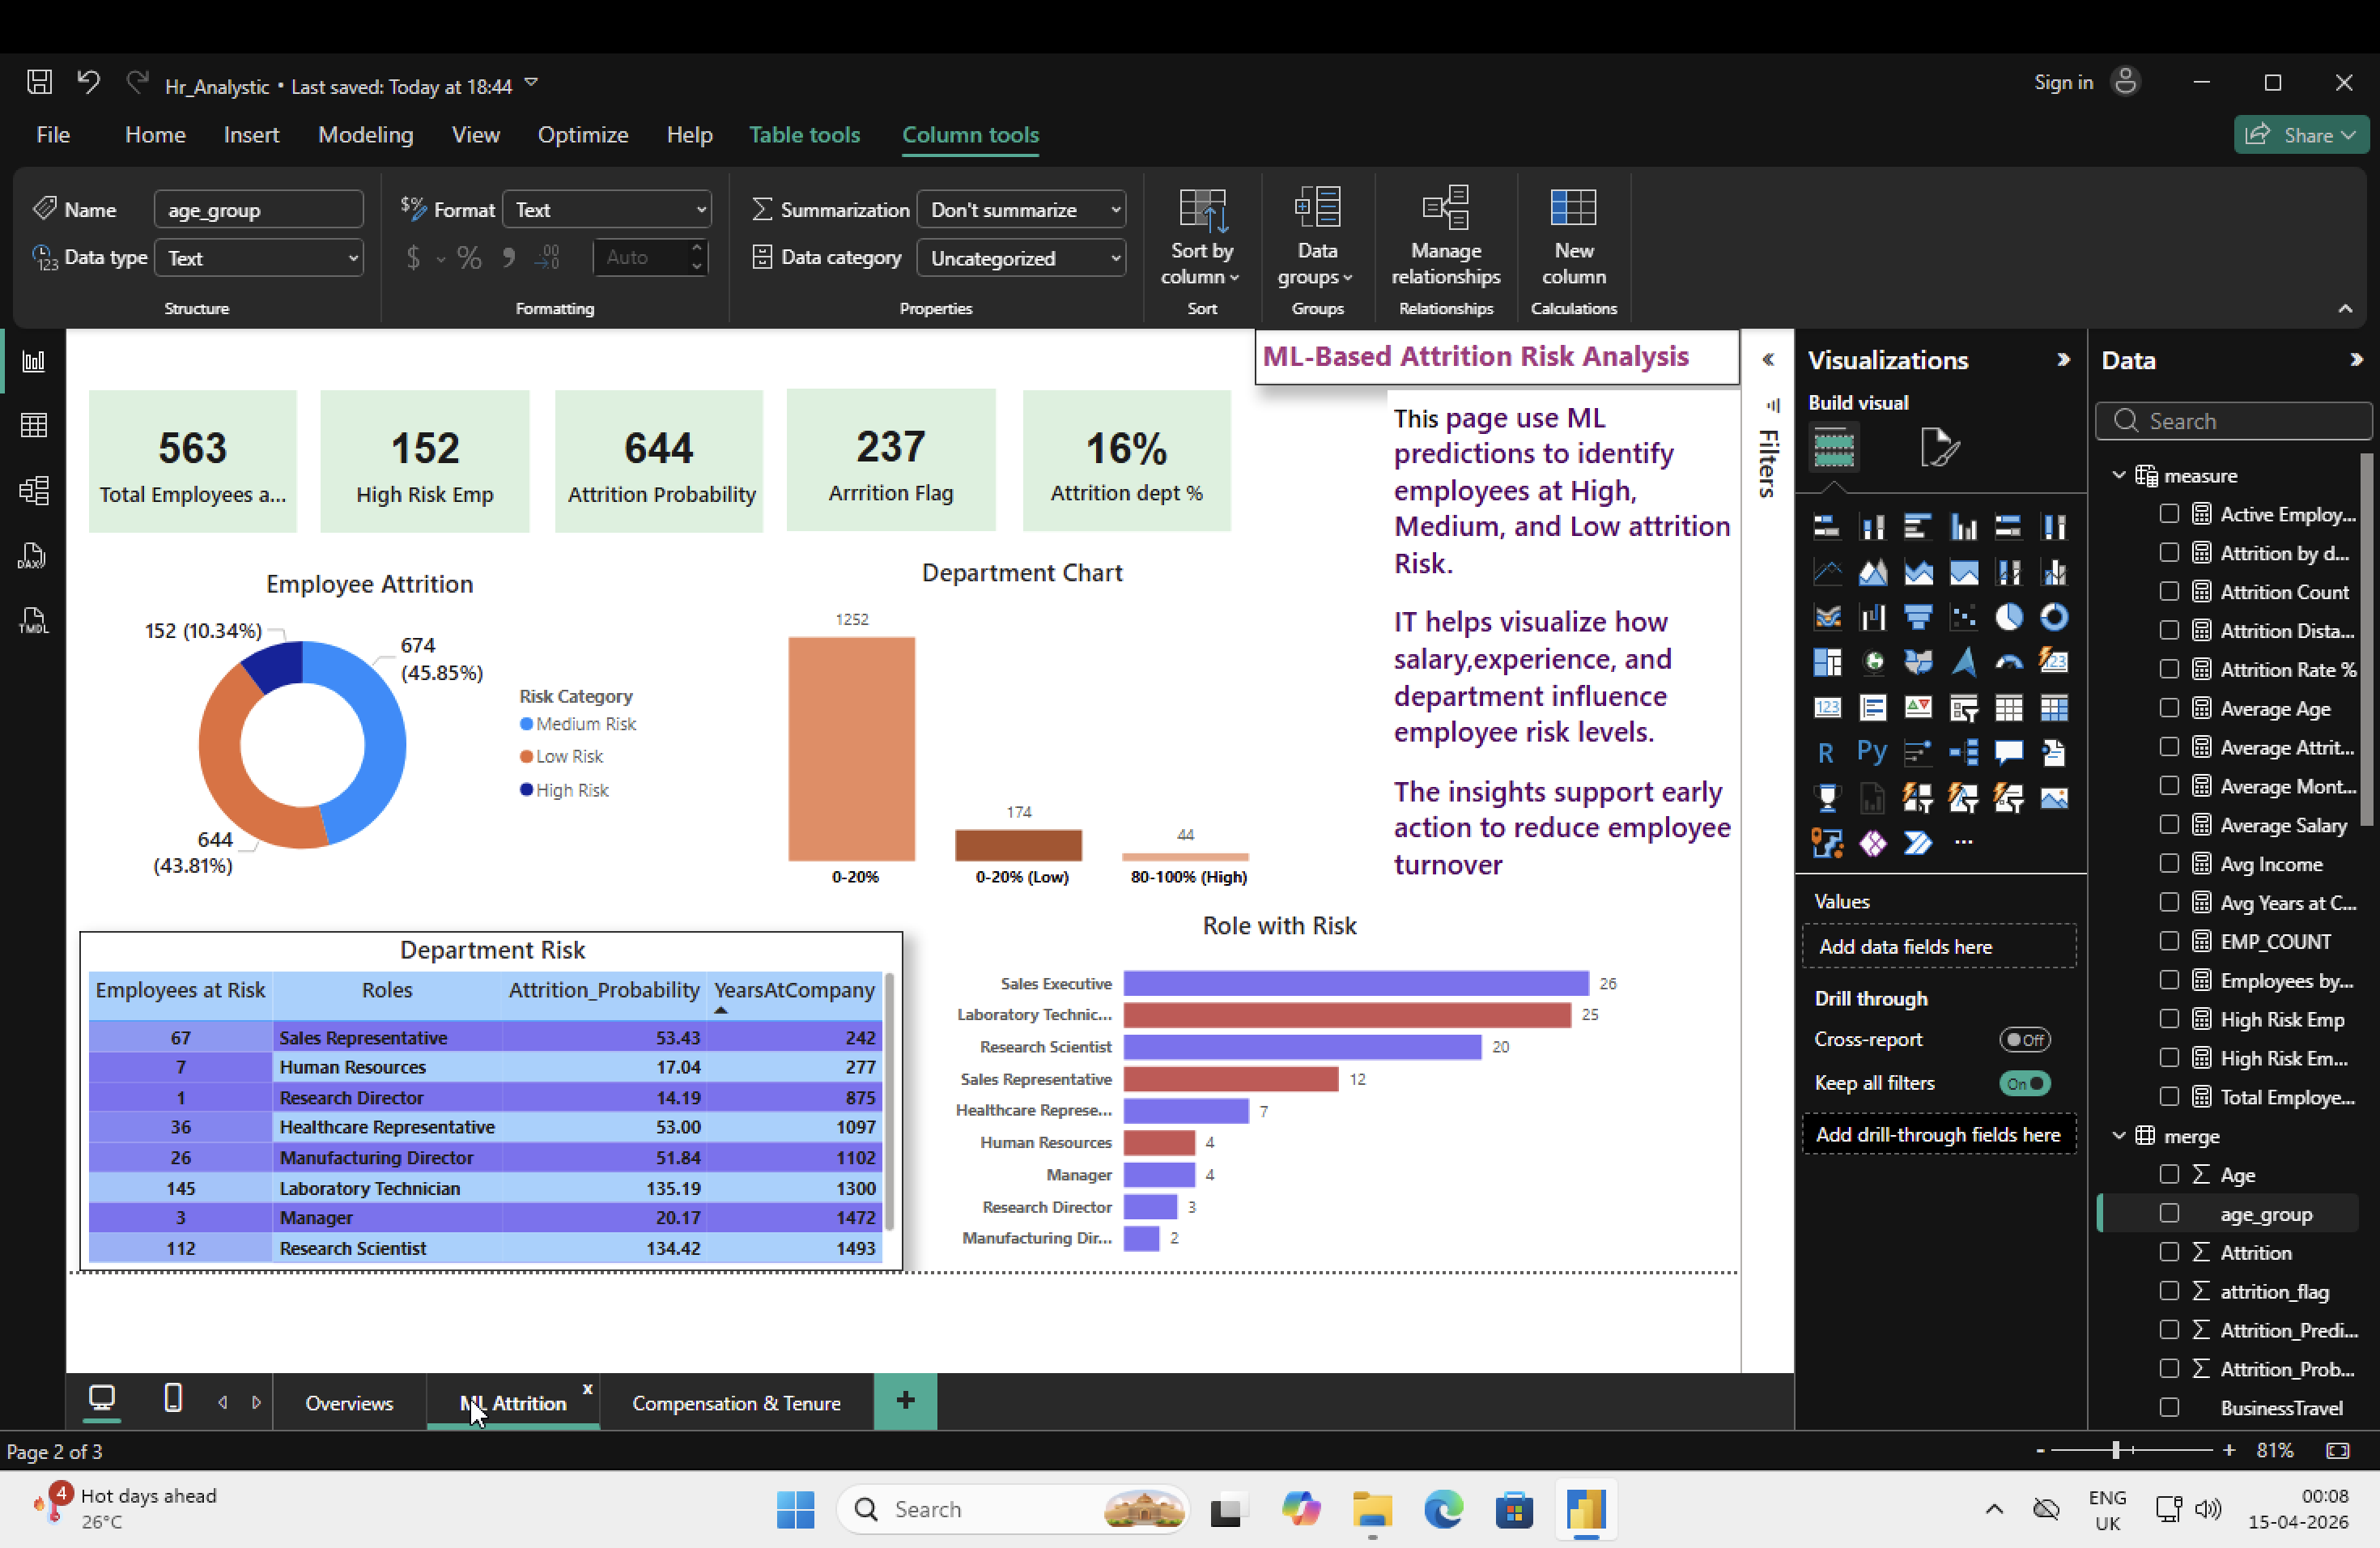

Layout of this report page (visuals, bound fields, positions):
{"tool":"powerbi","page":{"name":"ML Attrition","canvas":[1280,720],"ordinal":1},"visuals":[{"type":"card","fields":{"Values":["measure.High Risk Emp"]},"box":[194.2,47,159.8,108.9],"z":0,"group":"g1"},{"type":"card","fields":{"Values":["measure.Attrition by dept %"]},"box":[731.1,47.6,159,107.9],"z":1000,"group":"g1"},{"type":"card","fields":{"Values":["measure.Total Employees at Risk"]},"box":[17.3,47,158.8,108.9],"z":2000,"group":"g1"},{"type":"card","fields":{"Values":["Sum(merge.attrition_flag)"]},"box":[551.2,45.8,159.8,108.9],"z":3000,"group":"g1"},{"type":"card","fields":{"Values":["Sum(merge.Attrition_Probability)"]},"box":[373.2,47,158.8,108.9],"z":4000,"group":"g1"},{"type":"clusteredBarChart","title":"Role with Risk","fields":{"Category":["merge.JobRole"],"Y":["measure.High Risk Employees"]},"box":[663.5,443.2,528.6,277.3],"z":5000},{"type":"columnChart","title":"Department Chart","fields":{"Category":["merge.Probability Band"],"Y":["Sum(merge.EmployeeCount)"]},"box":[496.4,173.3,469.2,263.7],"z":6000},{"type":"tableEx","title":"Department Risk","fields":{"Values":["measure.Total Employees at Risk","merge.JobRole","Sum(merge.Attrition_Probability)","Sum(merge.YearsAtCompany)"]},"box":[9.9,460.5,630.1,260],"z":7000},{"type":"donutChart","title":"Employee Attrition","fields":{"Category":["merge.Risk Category"],"Y":["Sum(merge.EmployeeCount)"]},"box":[9.9,182,444.4,247.6],"z":8000},{"type":"textbox","box":[908.6,0,371.4,43.3],"z":8001},{"type":"group","id":"g1","title":"Group 1","box":[17.3,45.8,872.7,110.2],"z":8002},{"type":"textbox","box":[1010.1,47,269.9,397.4],"z":8003}]}

Visuals, with their boxes on the page's 1280x720 design canvas (x1, y1, x2, y2). These are canvas units, not pixel positions in the 2380x1548 screenshot, which may show the page scaled, cropped or inside an application window:
card - measure.High Risk Emp: l=194, t=47, r=354, b=156
card - measure.Attrition by dept %: l=731, t=48, r=890, b=156
card - measure.Total Employees at Risk: l=17, t=47, r=176, b=156
card - Sum(merge.attrition_flag): l=551, t=46, r=711, b=155
card - Sum(merge.Attrition_Probability): l=373, t=47, r=532, b=156
"Role with Risk" clusteredBarChart: l=664, t=443, r=1192, b=720
"Department Chart" columnChart: l=496, t=173, r=966, b=437
"Department Risk" tableEx: l=10, t=460, r=640, b=720
"Employee Attrition" donutChart: l=10, t=182, r=454, b=430
textbox: l=909, t=0, r=1280, b=43
"Group 1" group: l=17, t=46, r=890, b=156
textbox: l=1010, t=47, r=1280, b=444
